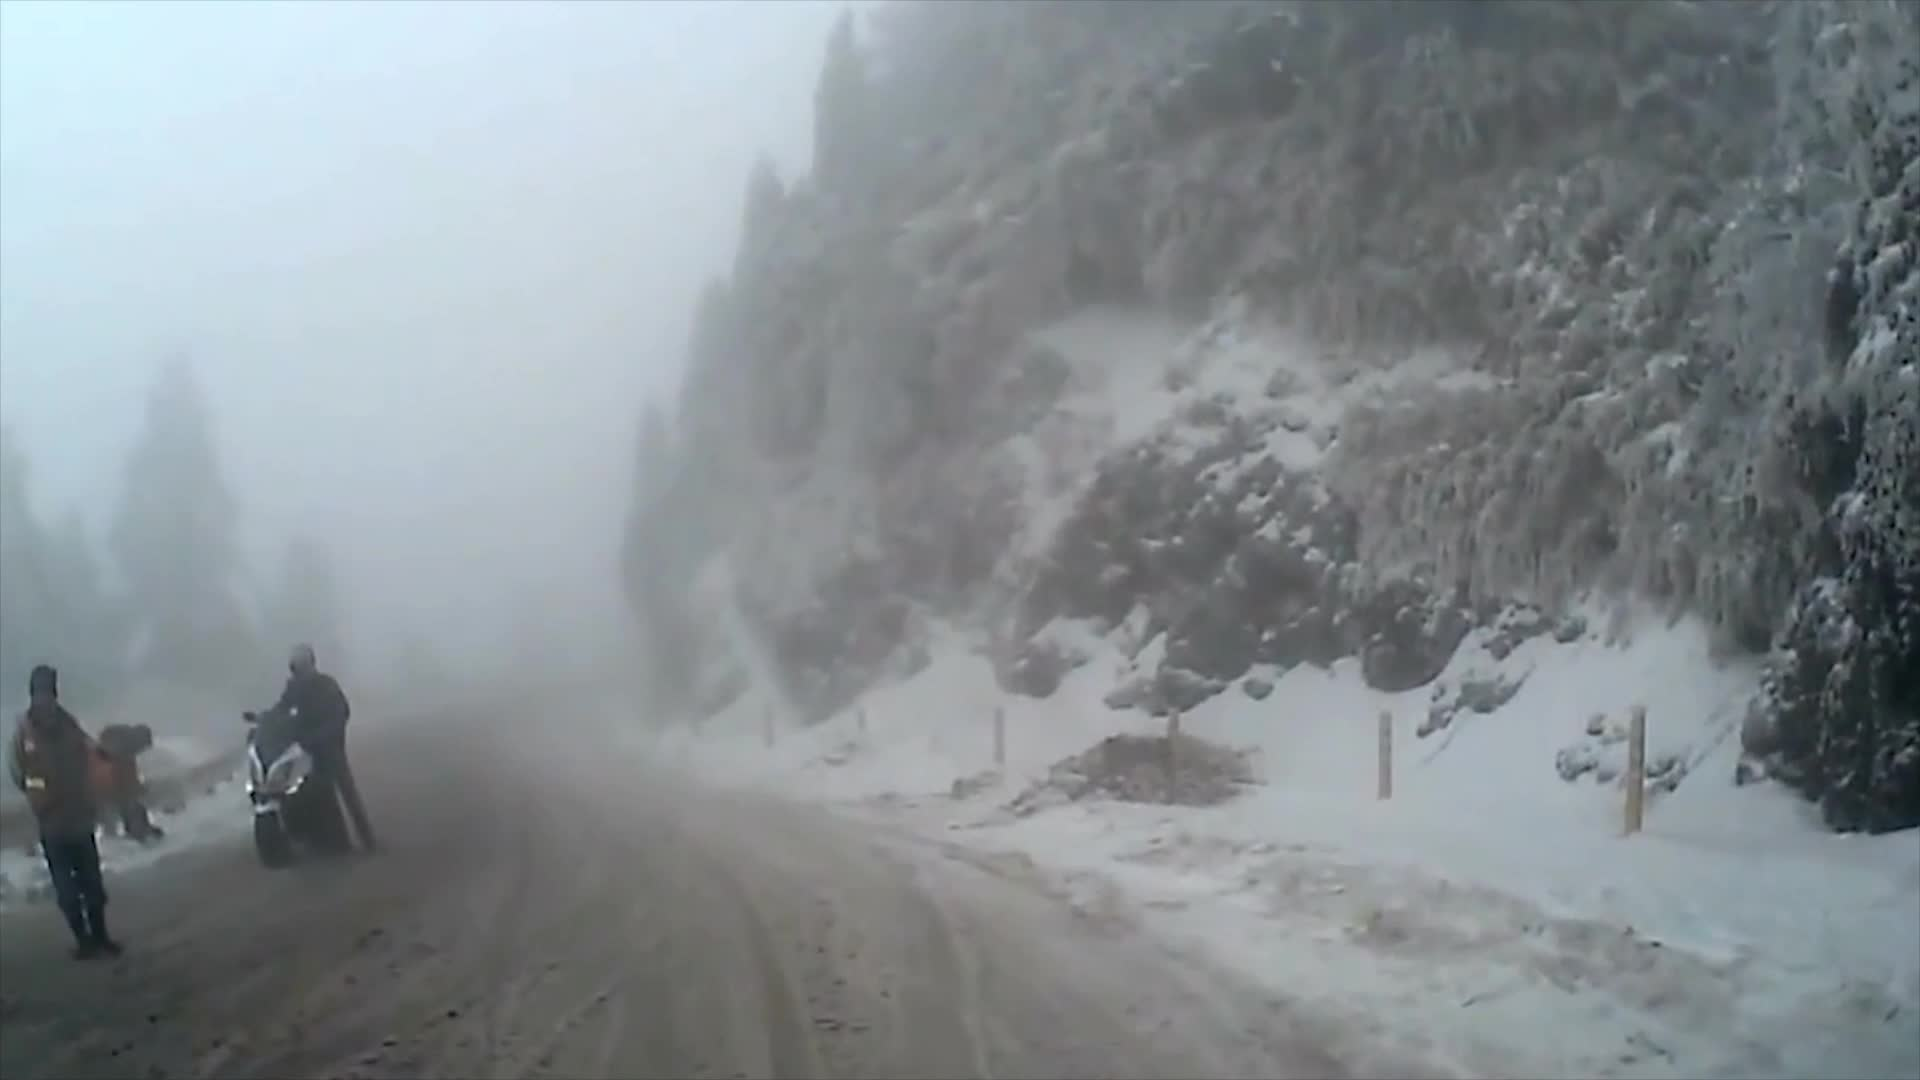pedestrian: (4, 665, 119, 959), (256, 635, 389, 860), (90, 723, 166, 844)
